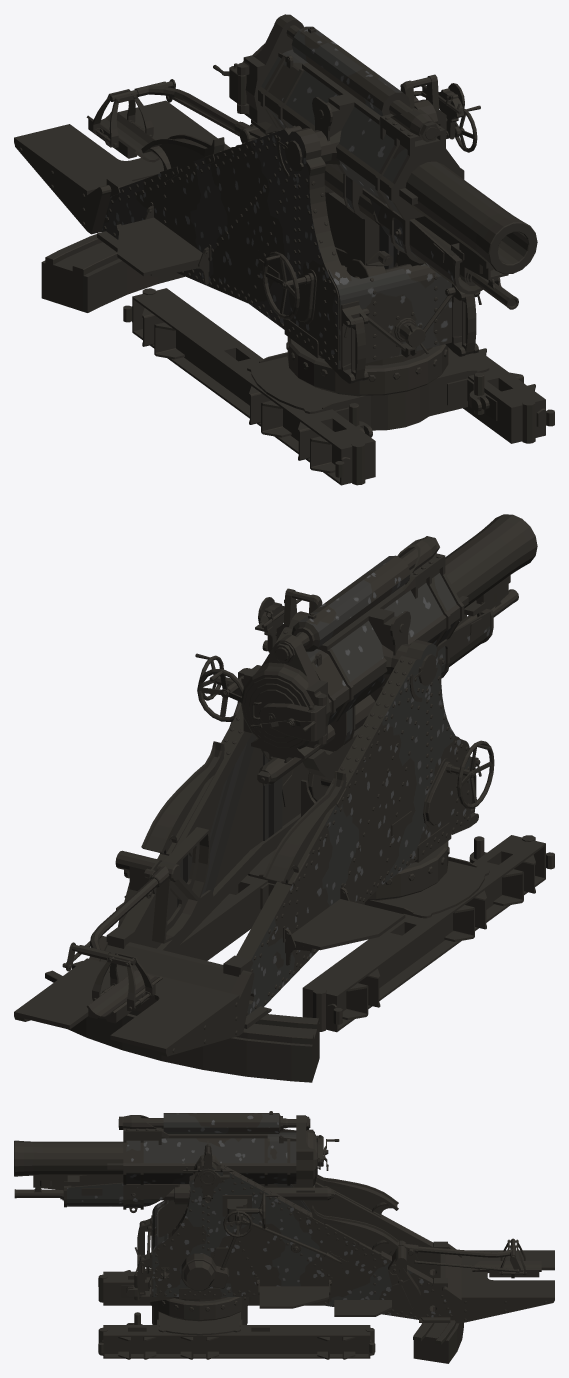
The model's file is Veh_BL-9.2_01.fbx.
3 views of the same model, one above another, from view 1: azimuth 30°, elevation 25°; view 2: azimuth 150°, elevation 25°; view 3: azimuth 270°, elevation 25° (orthographic). The views are drawn at different scales.
Visible parts, largest first — view 1: Veh_BL-9.2_01_Base_LOD0, Veh_BL-9.2_01_LOD0, Veh_BL-9.2_01_Cannon_LOD0, Veh_BL-9.2_01_Gun_LOD0, Veh_BL_9.2_01_Shutter_LOD0; view 2: Veh_BL-9.2_01_Base_LOD0, Veh_BL-9.2_01_LOD0, Veh_BL-9.2_01_Cannon_LOD0, Veh_BL-9.2_01_Gun_LOD0, Veh_BL_9.2_01_Shutter_LOD0; view 3: Veh_BL-9.2_01_Base_LOD0, Veh_BL-9.2_01_LOD0, Veh_BL-9.2_01_Cannon_LOD0, Veh_BL-9.2_01_Gun_LOD0, Veh_BL_9.2_01_Shutter_LOD0.
Boxes of the visible parts, x1,y1,x2,y2 form: Veh_BL-9.2_01_Base_LOD0: (14,79,481,396); Veh_BL-9.2_01_LOD0: (41,234,554,485); Veh_BL-9.2_01_Cannon_LOD0: (258,49,482,294); Veh_BL-9.2_01_Gun_LOD0: (237,14,537,309); Veh_BL_9.2_01_Shutter_LOD0: (213,63,246,105); Veh_BL-9.2_01_Base_LOD0: (14,611,494,1056); Veh_BL-9.2_01_LOD0: (45,835,554,1082); Veh_BL-9.2_01_Cannon_LOD0: (255,536,493,780); Veh_BL-9.2_01_Gun_LOD0: (241,514,537,785); Veh_BL_9.2_01_Shutter_LOD0: (250,689,326,741); Veh_BL-9.2_01_Base_LOD0: (135,1161,554,1323); Veh_BL-9.2_01_LOD0: (98,1269,463,1363); Veh_BL-9.2_01_Cannon_LOD0: (64,1115,296,1212); Veh_BL-9.2_01_Gun_LOD0: (14,1111,334,1200); Veh_BL_9.2_01_Shutter_LOD0: (316,1135,339,1174).
Size of what is drawn, in the model's own units: 209 by 244 by 553.
